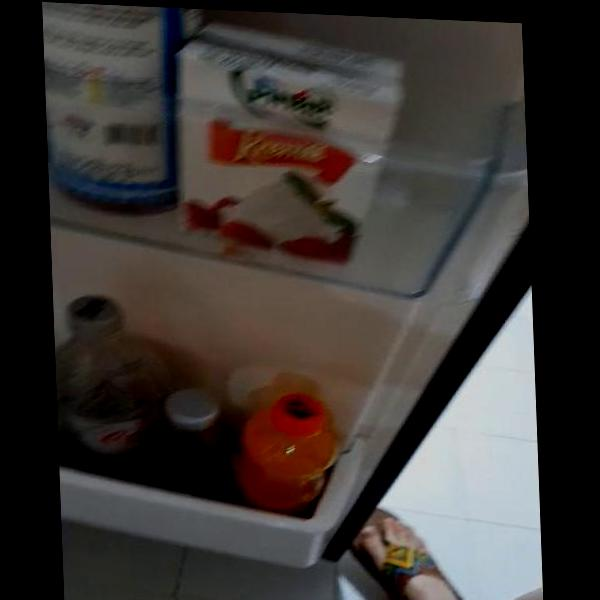cream: (176, 27, 395, 255)
